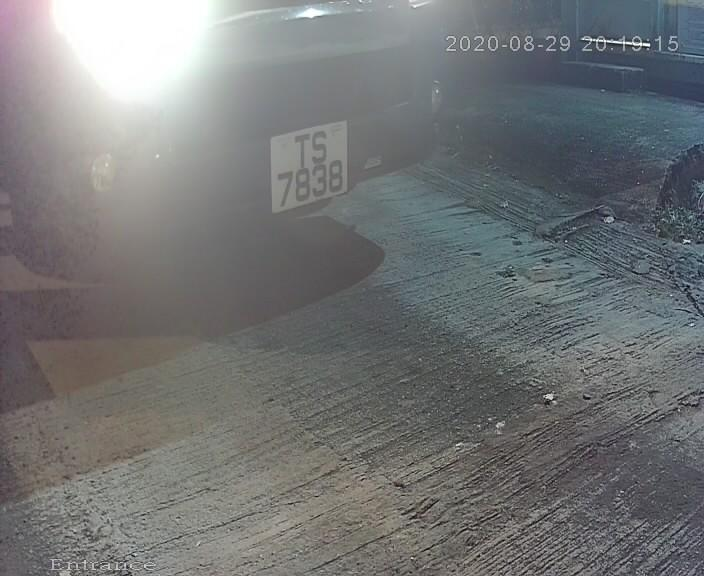License Plate: (255, 106, 362, 229)
